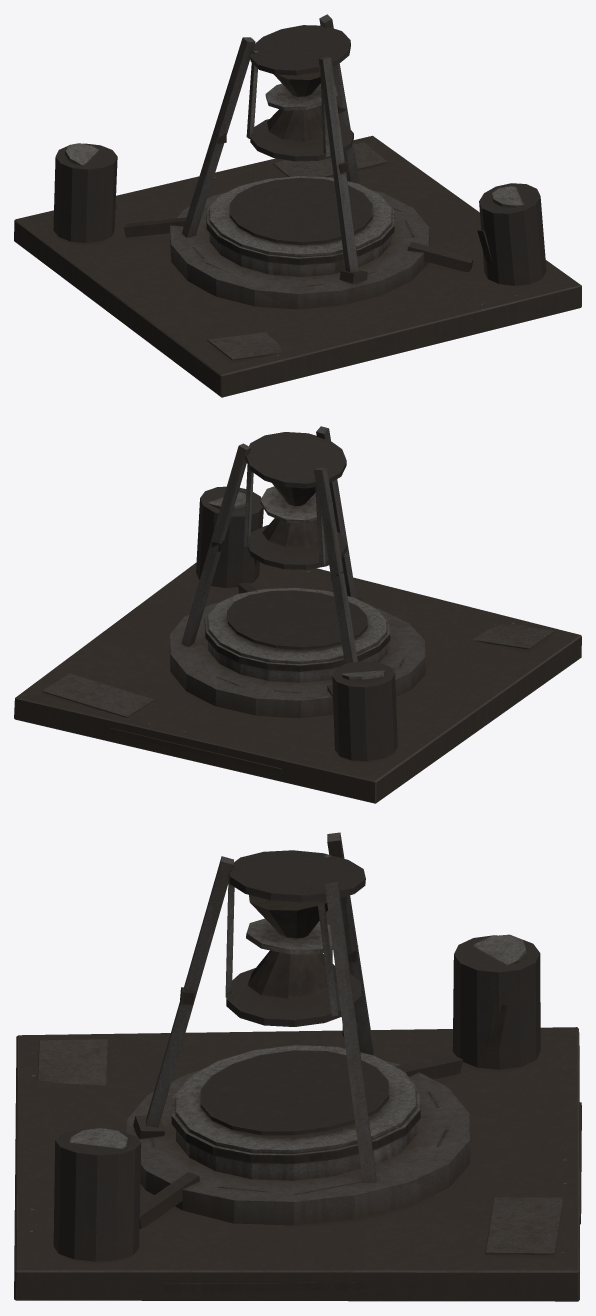
File: chs_carapace_wreck.fbx
3 views of the same model, one above another, from view 1: azimuth 30°, elevation 25°; view 2: azimuth 150°, elevation 25°; view 3: azimuth 270°, elevation 25° (orthographic). The views are drawn at different scales.
Visible parts, largest first — view 1: base_bar, core_bar; view 2: base_bar, core_bar; view 3: base_bar, core_bar.
Part boxes in pixels (x1,y1,x2,y2): base_bar: (14,14,581,397); core_bar: (265,66,337,142); base_bar: (14,426,581,803); core_bar: (260,483,332,547); base_bar: (14,832,581,1301); core_bar: (246,895,337,998).
Size of the model in its own units: 1309 by 1030 by 1304.
Materials: 2 (2 with a texture image).
